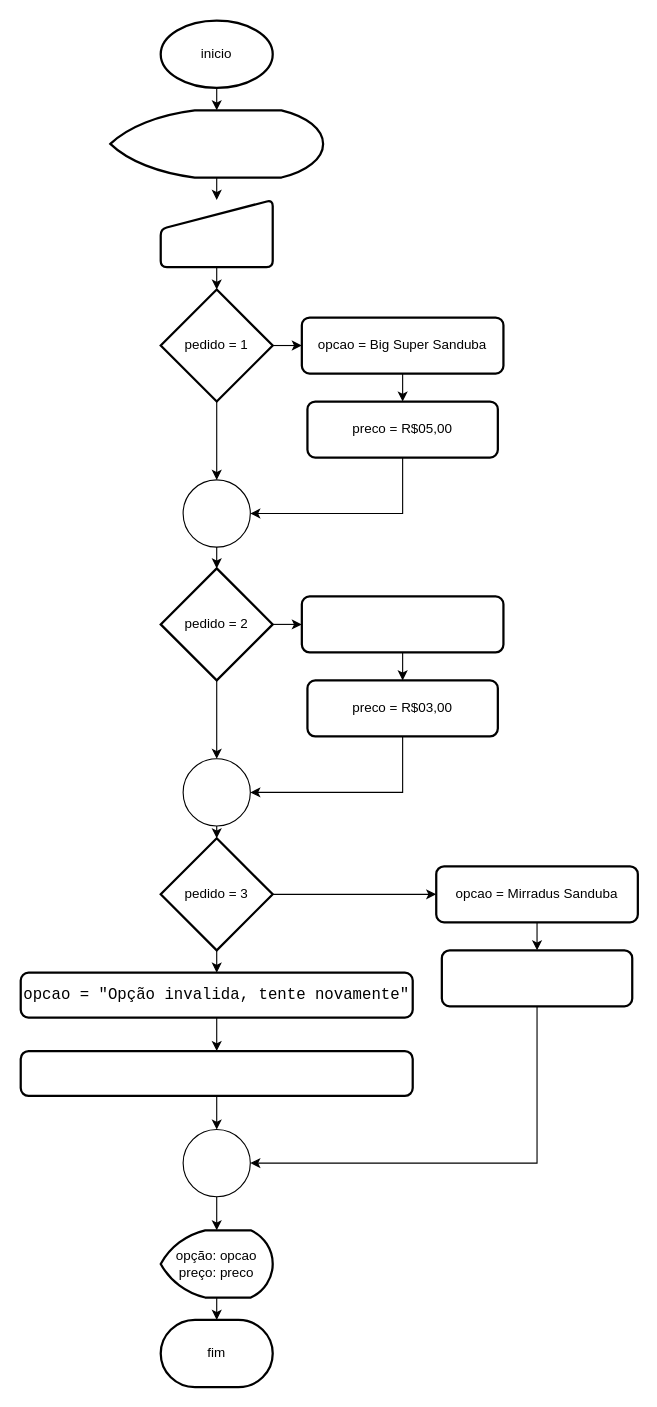
This 657x1407 diagram has some shape labels left out. Here are the shapes that lost their labels. From the top down, the centre of each, then its label:
the point at 216,143: Qual seu pedido? (1, 2 ou 3)
the point at 216,233: pedido
the point at 402,624: opcao = Quase Super Sanduba
the point at 536,978: preco = R01,50
the point at 216,1072: preco = "Opção invalida, tente novamente"
